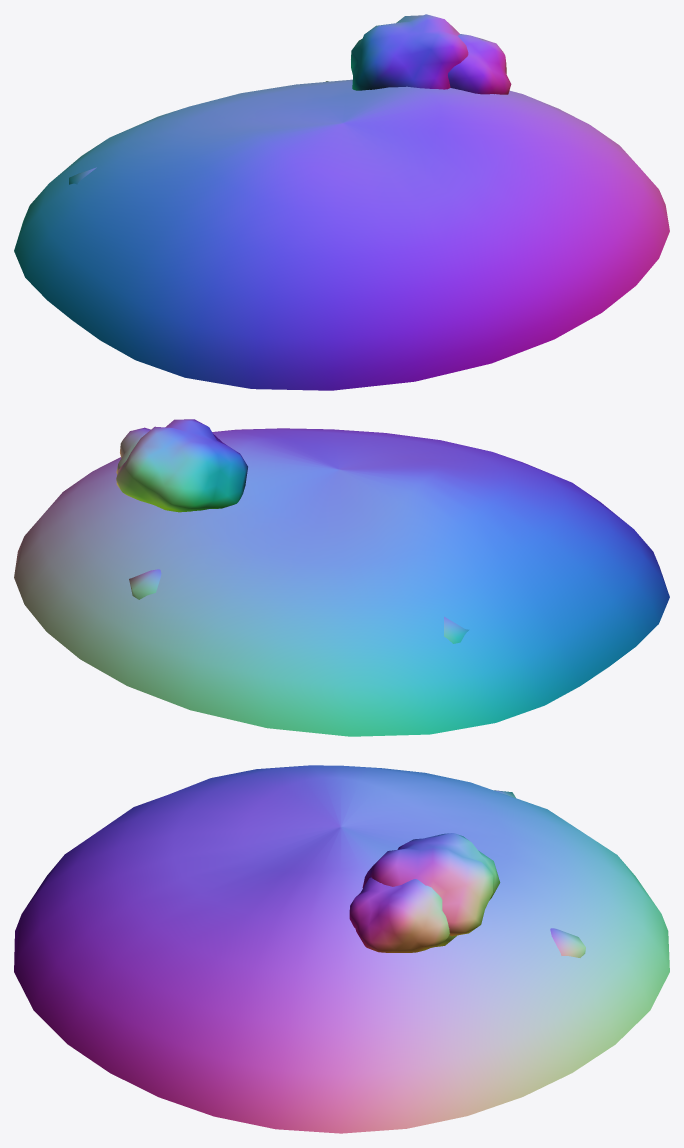
The model's file is SM_Terrain_Plains_SkirtHill_C.fbx.
3 renders of one model, top to bottom at view 1: azimuth 30°, elevation 25°; view 2: azimuth 150°, elevation 25°; view 3: azimuth 270°, elevation 25°, orthographic. The views are drawn at different scales.
Parts seen in each view (by area): view 1: SM_Terrain_Plains_SkirtHill_C; view 2: SM_Terrain_Plains_SkirtHill_C; view 3: SM_Terrain_Plains_SkirtHill_C.
Part boxes in pixels (<box>): SM_Terrain_Plains_SkirtHill_C: <box>14,14,669,390</box>; SM_Terrain_Plains_SkirtHill_C: <box>14,419,669,736</box>; SM_Terrain_Plains_SkirtHill_C: <box>14,765,669,1133</box>.
Size of the model in its own units: 4.81 by 1.39 by 4.34.
